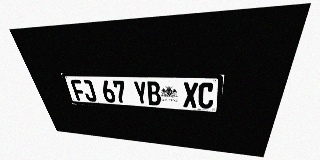6: (100, 80, 116, 103)
7: (112, 80, 128, 104)
B: (146, 81, 161, 106)
C: (198, 82, 215, 109)
F: (70, 79, 87, 101)
J: (80, 80, 97, 102)
X: (183, 82, 198, 108)
Y: (133, 81, 148, 105)
